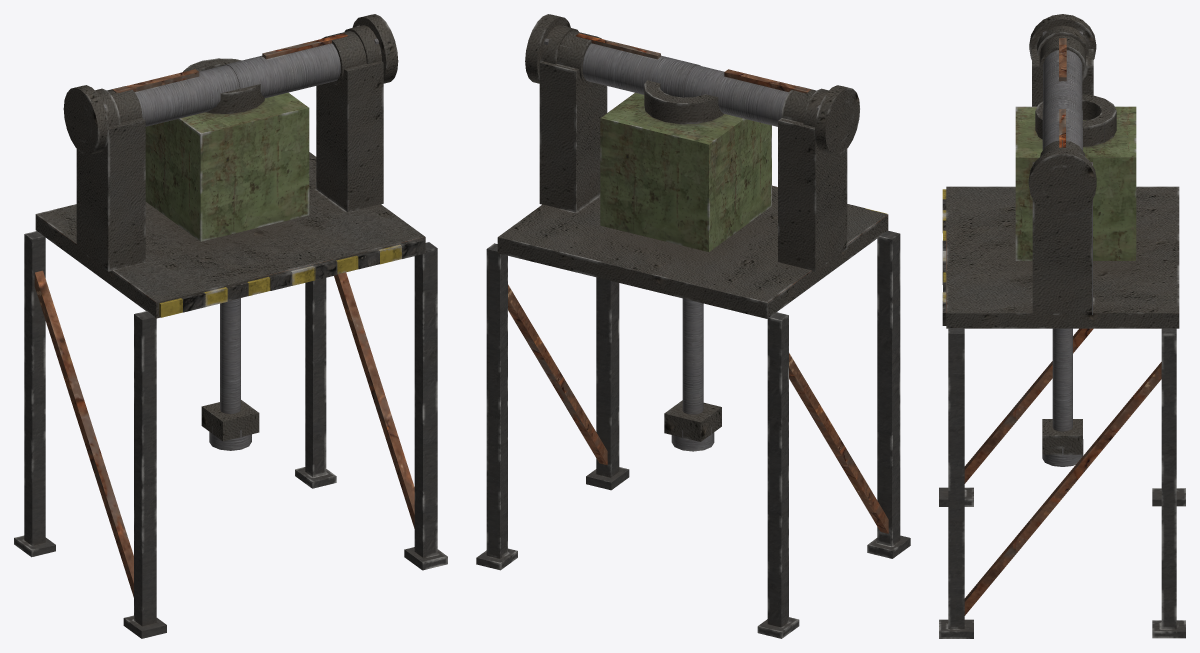
The model's file is feCrimper_HD.fbx.
3 renders of one model, left to right at view 1: azimuth 30°, elevation 25°; view 2: azimuth 150°, elevation 25°; view 3: azimuth 270°, elevation 25°, orthographic. The views are drawn at different scales.
Visible parts, largest first — view 1: feCrimper_Base, FeReach_Legs, FeSpin_DriveShaft, FePiston_InlineDie; view 2: feCrimper_Base, FeReach_Legs, FeSpin_DriveShaft, FePiston_InlineDie; view 3: feCrimper_Base, FeReach_Legs, FeSpin_DriveShaft, FePiston_InlineDie.
Boxes of the visible parts, x1,y1,x2,y2 form: feCrimper_Base: (35,31,425,318); FeReach_Legs: (14,231,447,638); FeSpin_DriveShaft: (63,14,398,155); FePiston_InlineDie: (201,298,259,450); feCrimper_Base: (497,31,888,318); FeReach_Legs: (476,230,910,638); FeSpin_DriveShaft: (525,14,859,155); FePiston_InlineDie: (664,298,721,451); feCrimper_Base: (942,35,1179,328); FeReach_Legs: (939,328,1185,638); FeSpin_DriveShaft: (1028,14,1096,215); FePiston_InlineDie: (1042,328,1083,466).
Size of the model in its own units: 1.02 by 1.6 by 0.743.
Materials: 1 (1 with a texture image).
